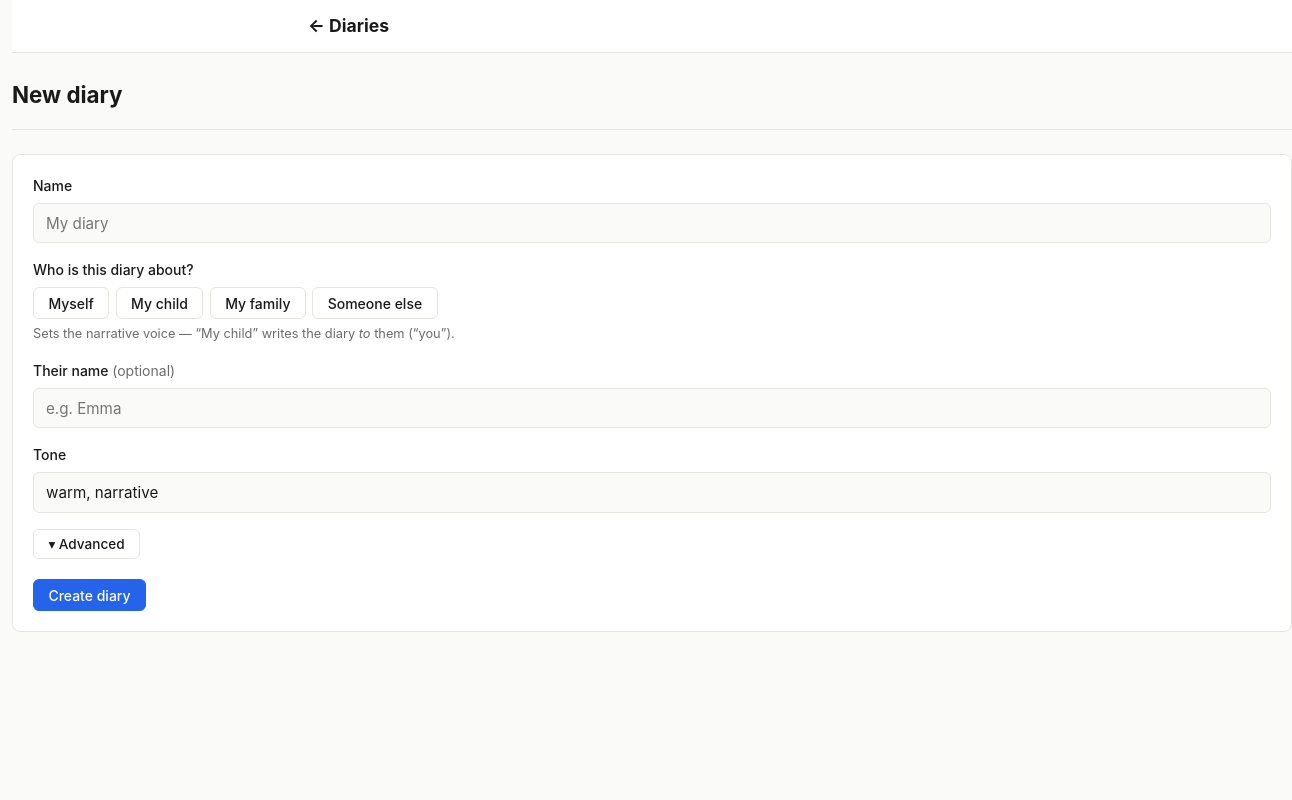
NewDiaryPage › shows a tier_limit error message when the diary limit is reached
Type "New diary" into the field labelled "Name" at (652, 223), box [33, 203, 1271, 243]
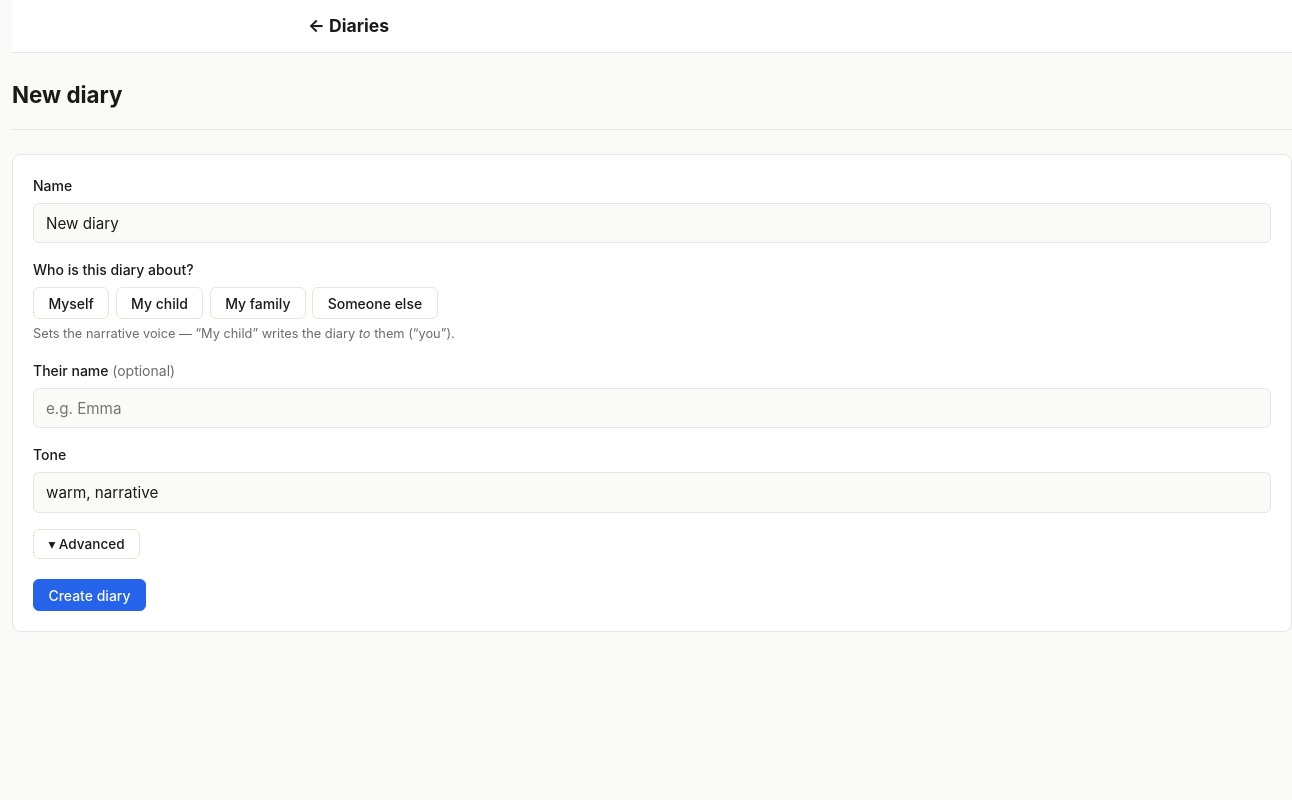
Click the button "Create diary" at (89, 595), box [33, 579, 146, 611]
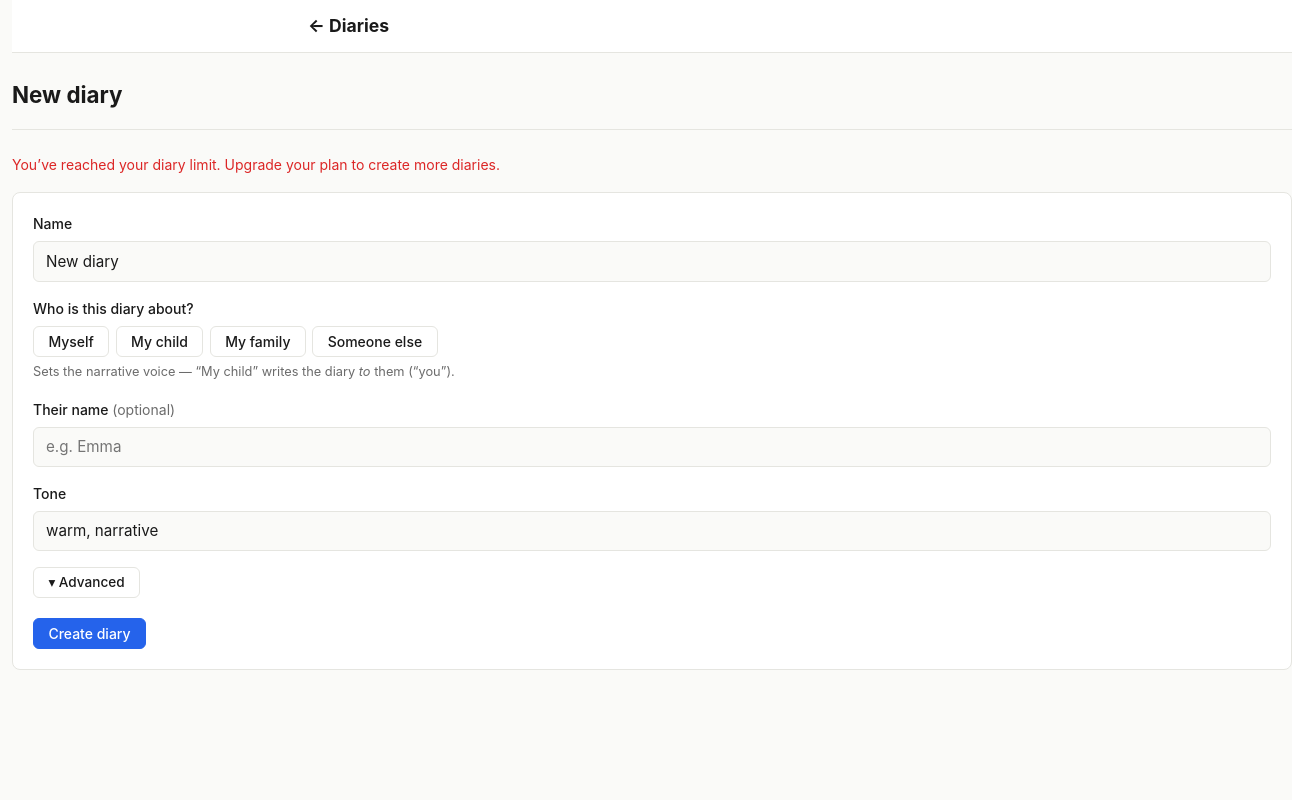
Check: the text "diary limit" is shown, box [12, 156, 500, 173]
